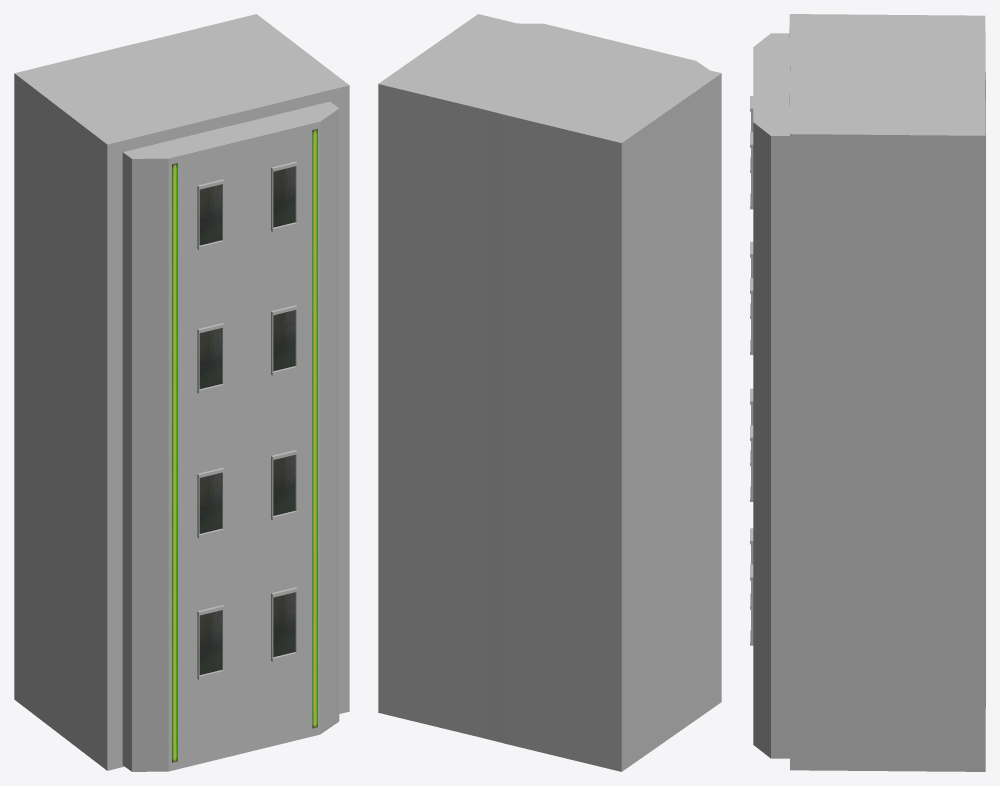
The model's file is bldg_mall_10_e01.fbx.
3 views of the same model, side by side, from view 1: azimuth 30°, elevation 25°; view 2: azimuth 150°, elevation 25°; view 3: azimuth 270°, elevation 25° (orthographic).
Parts seen in each view (by area): view 1: bldg_mall_10_e01; view 2: bldg_mall_10_e01; view 3: bldg_mall_10_e01.
Part boxes in pixels (<box>): bldg_mall_10_e01: <box>14,14,349,771</box>; bldg_mall_10_e01: <box>378,14,721,771</box>; bldg_mall_10_e01: <box>750,14,985,771</box>.
Size of the model in its own units: 6.73 by 16.38 by 5.5.
